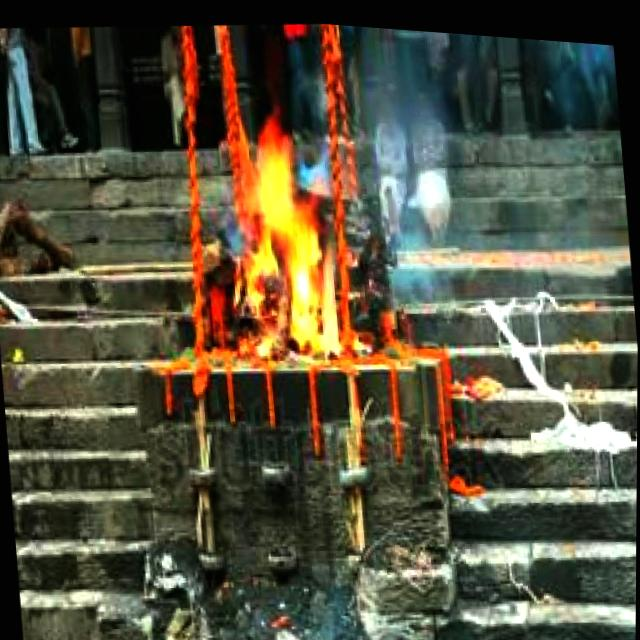Fire: (234, 111, 354, 362)
